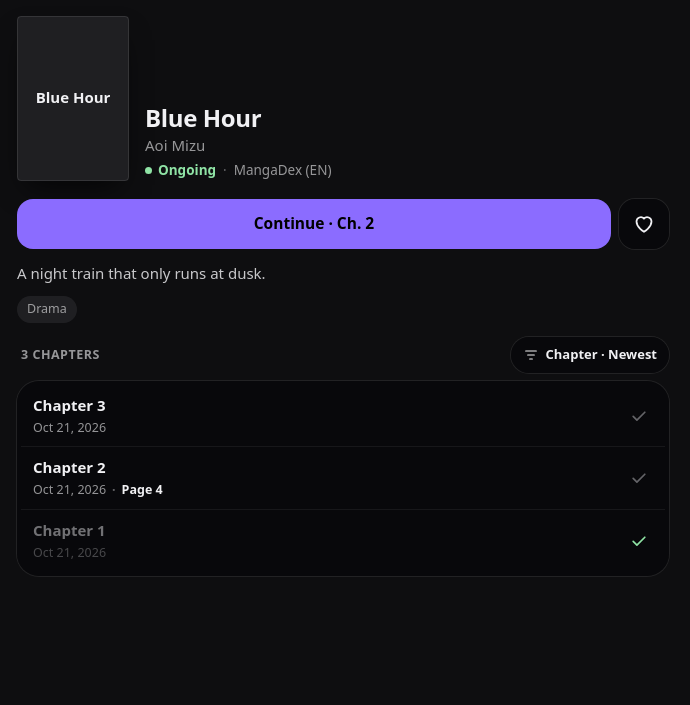
shows only unread chapters and says how many are shown
expect the text "Chapter 3" is shown: met, box [33,395,106,416]
Click the button with aria-label "Sort and filter chapters" at {"x": 590, "y": 355}, box [512,337,669,373]
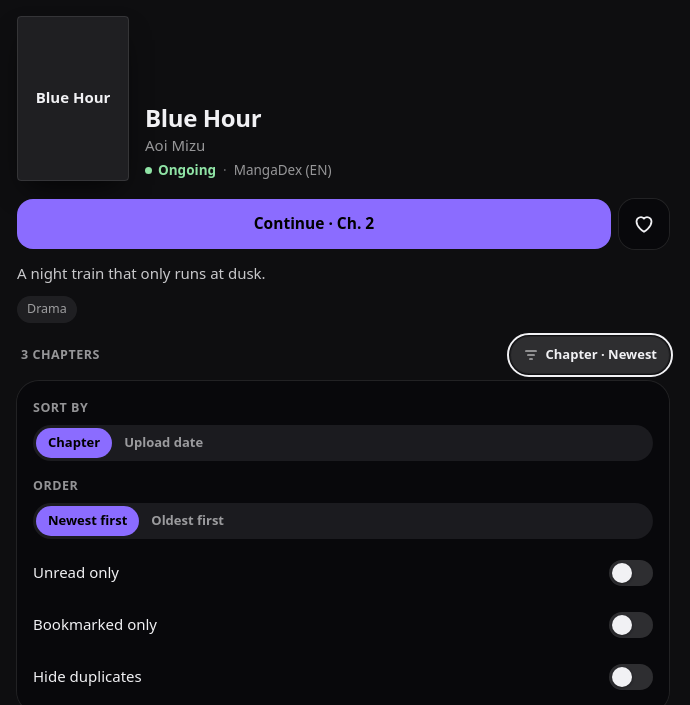
Click the switch named "Unread only" at {"x": 631, "y": 573}, box [609,560,653,586]
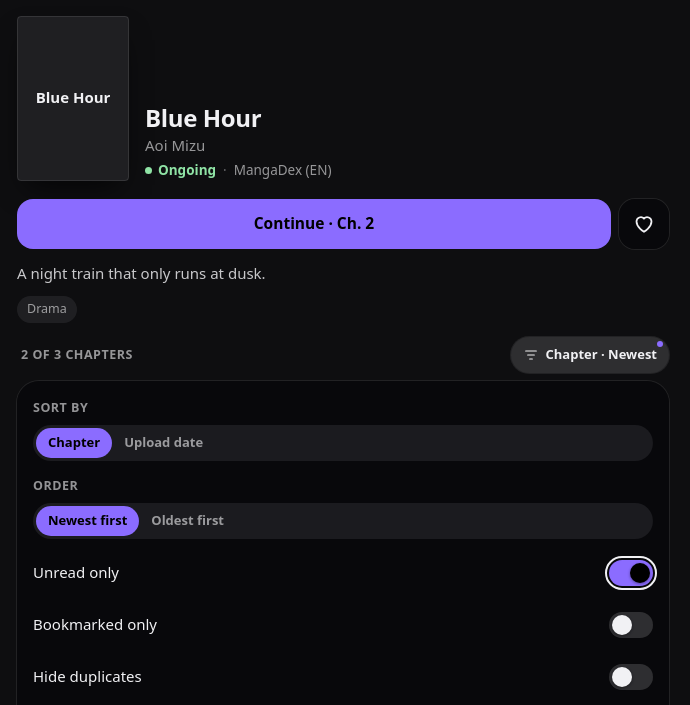
expect the heading "2 of 3 chapters" is shown: met, box [21,346,133,364]
